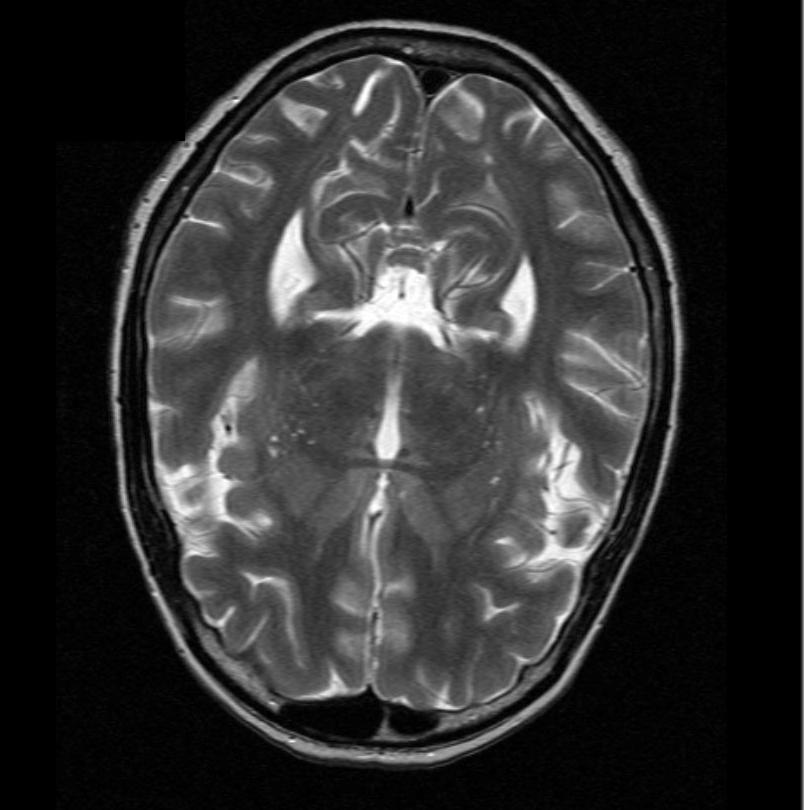Normal_Brain: (1, 1, 801, 810)
